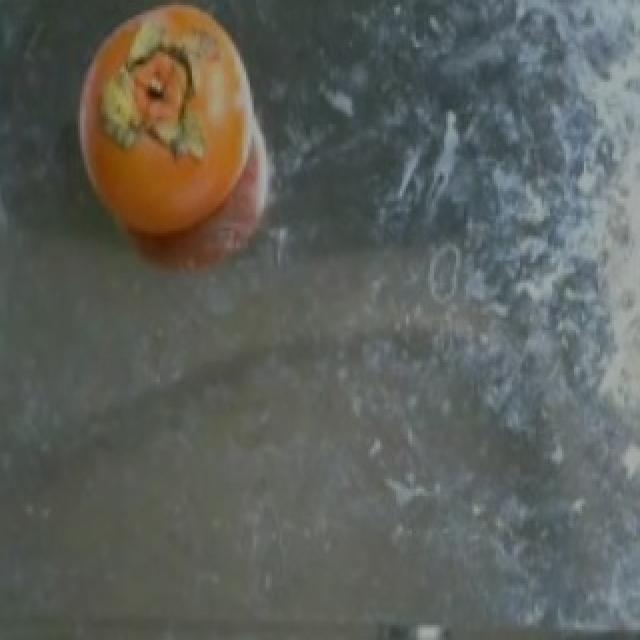Fruit: (48, 0, 296, 300)
